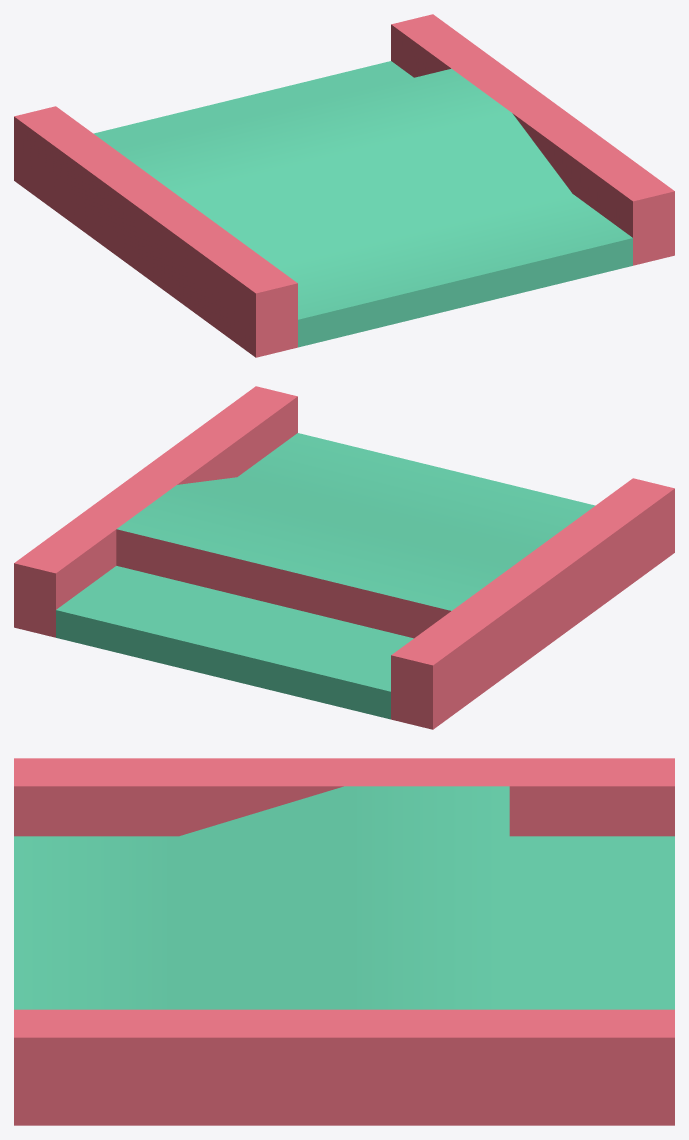
File: rampSquare.glb
The picture shows the model from 3 angles, top to bottom: view 1: azimuth 30°, elevation 25°; view 2: azimuth 150°, elevation 25°; view 3: azimuth 270°, elevation 25°; orthographic projection. The views are drawn at different scales.
Parts seen in each view (by area): view 1: rampSquare; view 2: rampSquare; view 3: rampSquare.
Part boxes in pixels (box(x1,y1,x2,y2)): rampSquare: box(14, 14, 674, 357); rampSquare: box(14, 386, 674, 729); rampSquare: box(14, 758, 674, 1125).
Size of the model in its own units: 0.9999 by 0.1467 by 0.9999.
